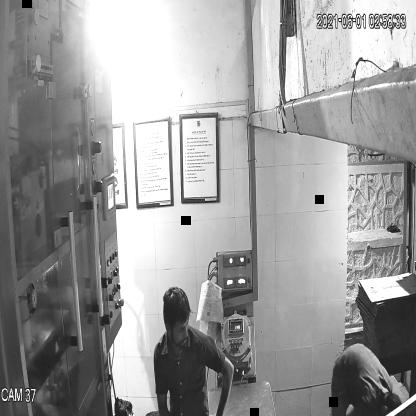no_goggles: (161, 318, 192, 338)
